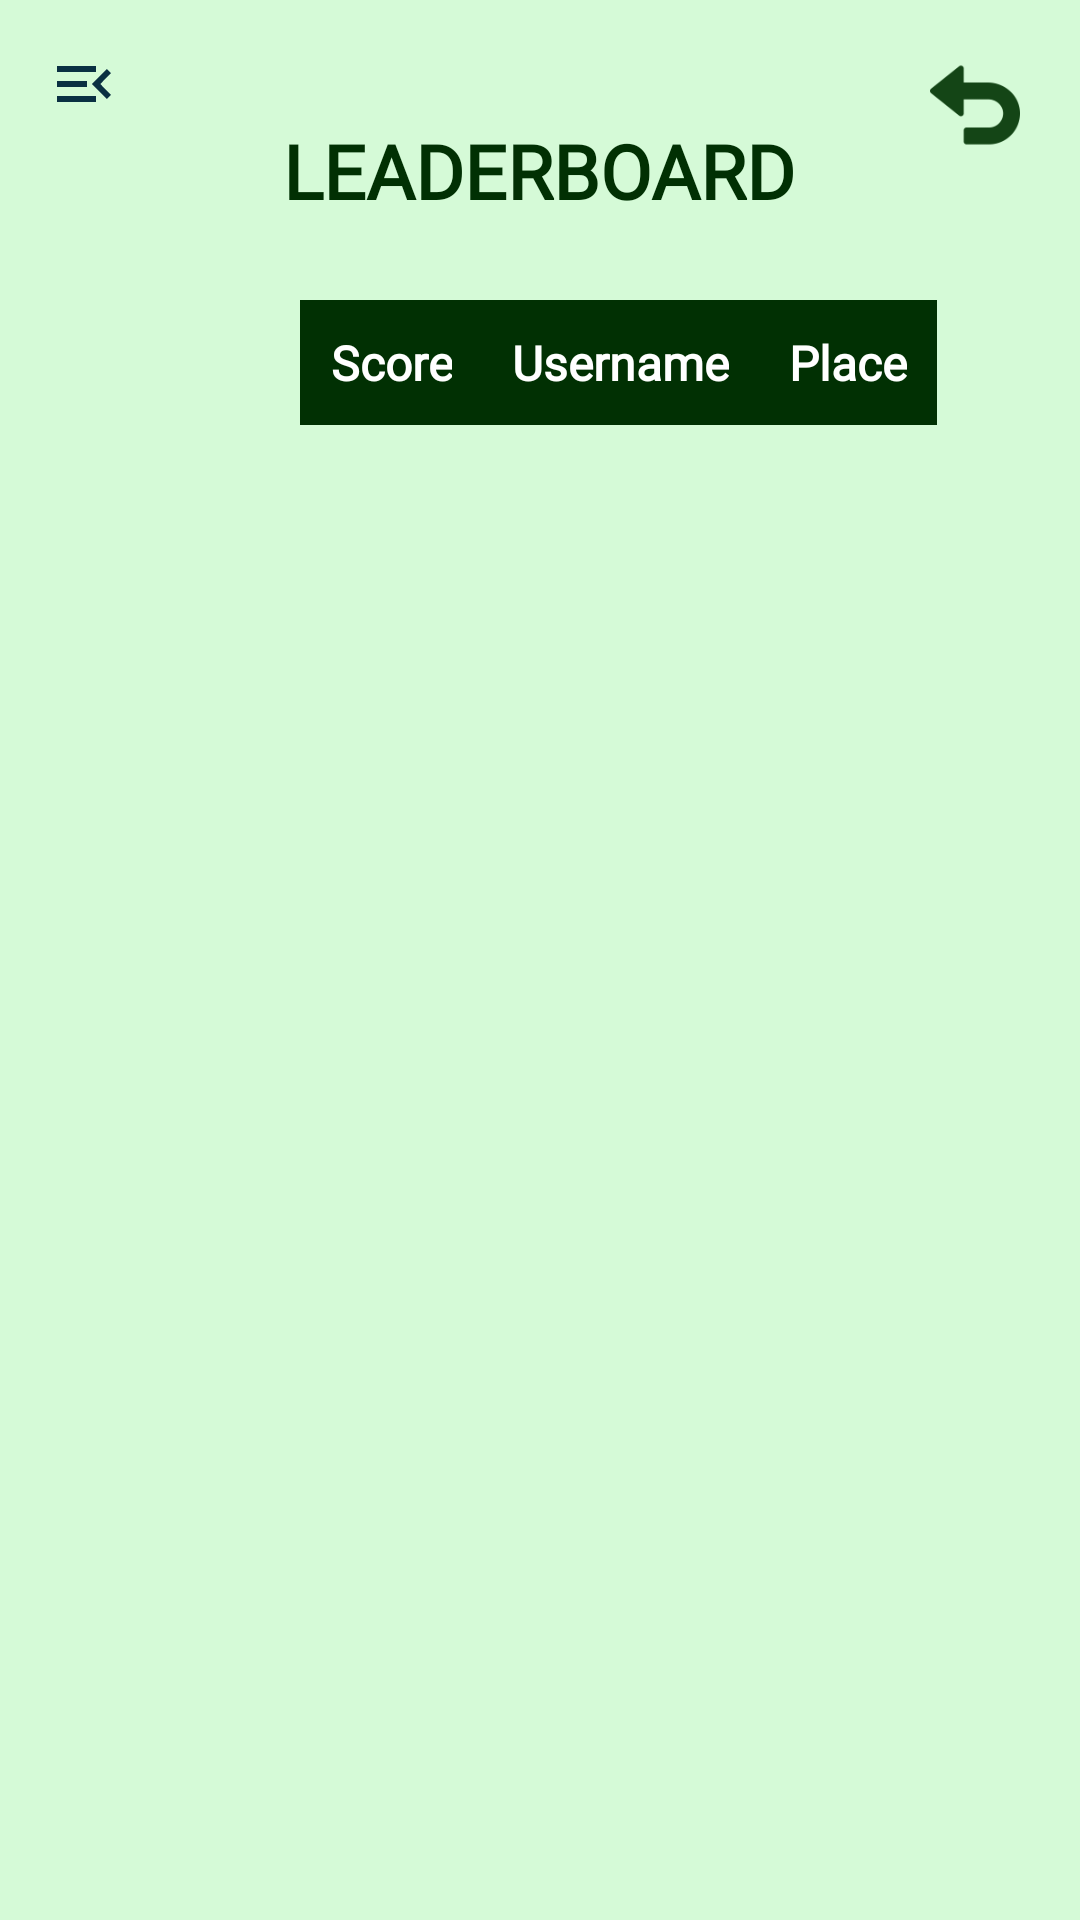

Icons on this 1080w x 1920h Android screen, each with the point to tap as (x=x, y=y):
undo: (x=975, y=105)
